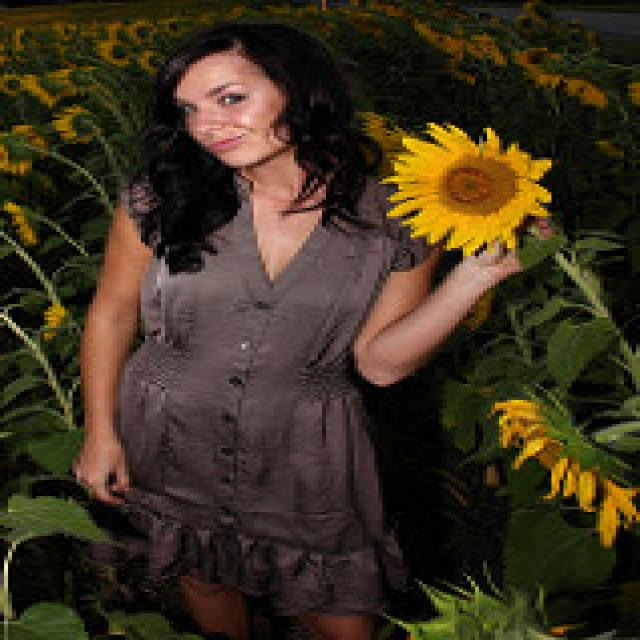sunflower: (388, 117, 551, 256)
